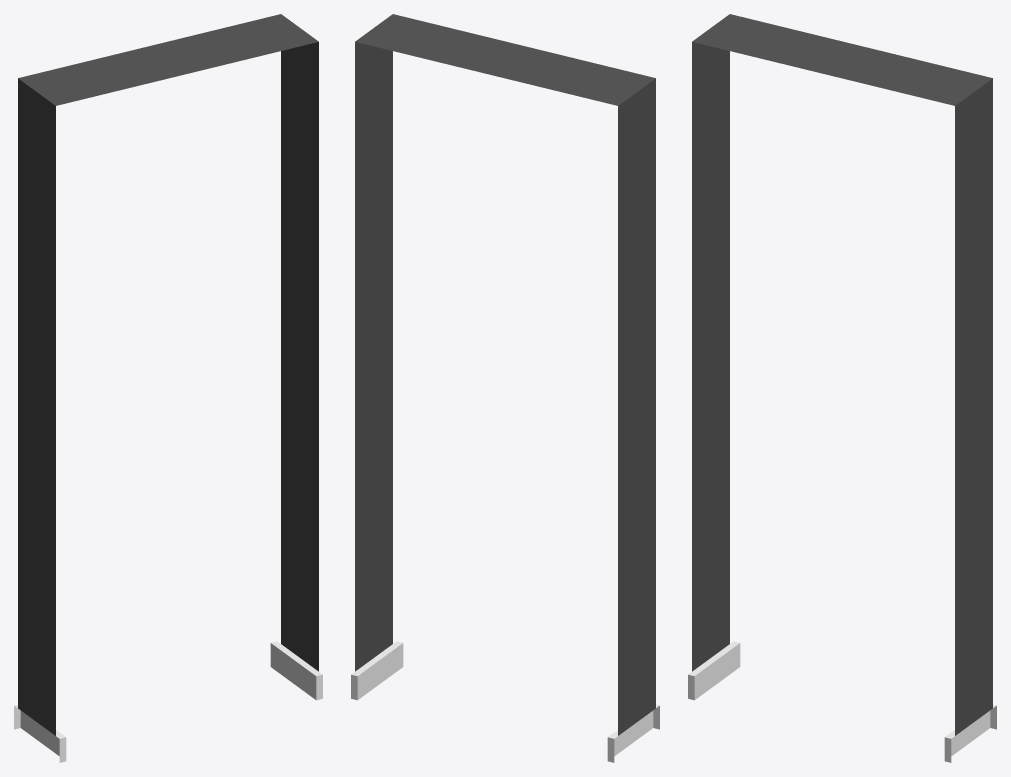
The model's file is EndPcsDoorframeV2Gray.fbx.
The picture shows the model from 3 angles, left to right: view 1: azimuth 30°, elevation 25°; view 2: azimuth 150°, elevation 25°; view 3: azimuth 330°, elevation 25°; orthographic projection.
Parts seen in each view (by area): view 1: EndPcsDoorframeV2Gray; view 2: EndPcsDoorframeV2Gray; view 3: EndPcsDoorframeV2Gray.
Boxes of the visible parts, x1=… form: EndPcsDoorframeV2Gray: x1=14, y1=14, x2=322, y2=762; EndPcsDoorframeV2Gray: x1=351, y1=14, x2=659, y2=762; EndPcsDoorframeV2Gray: x1=688, y1=14, x2=996, y2=762.
Size of the model in its own units: 80 by 190 by 24.
